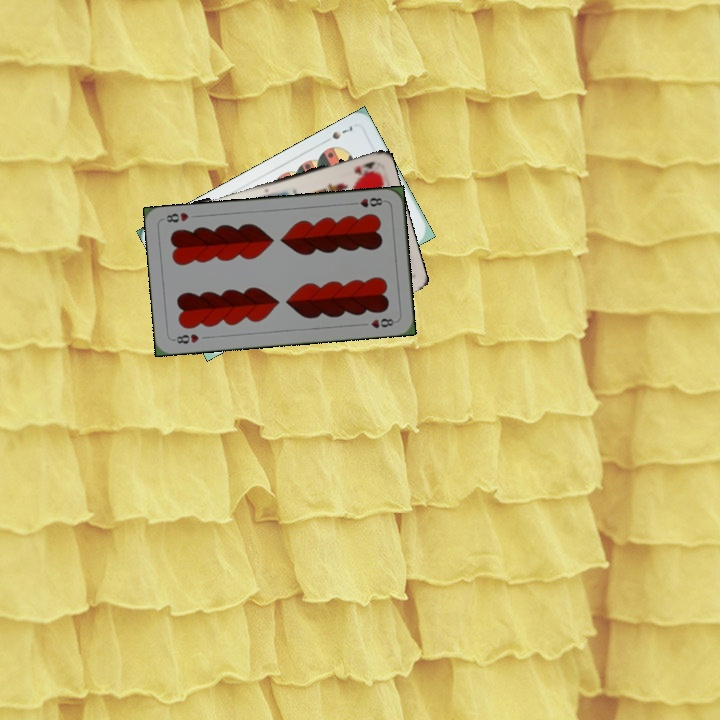H8: (347, 193, 388, 210), (169, 329, 201, 346)
HK: (350, 158, 377, 178)
S7: (319, 121, 355, 146)
